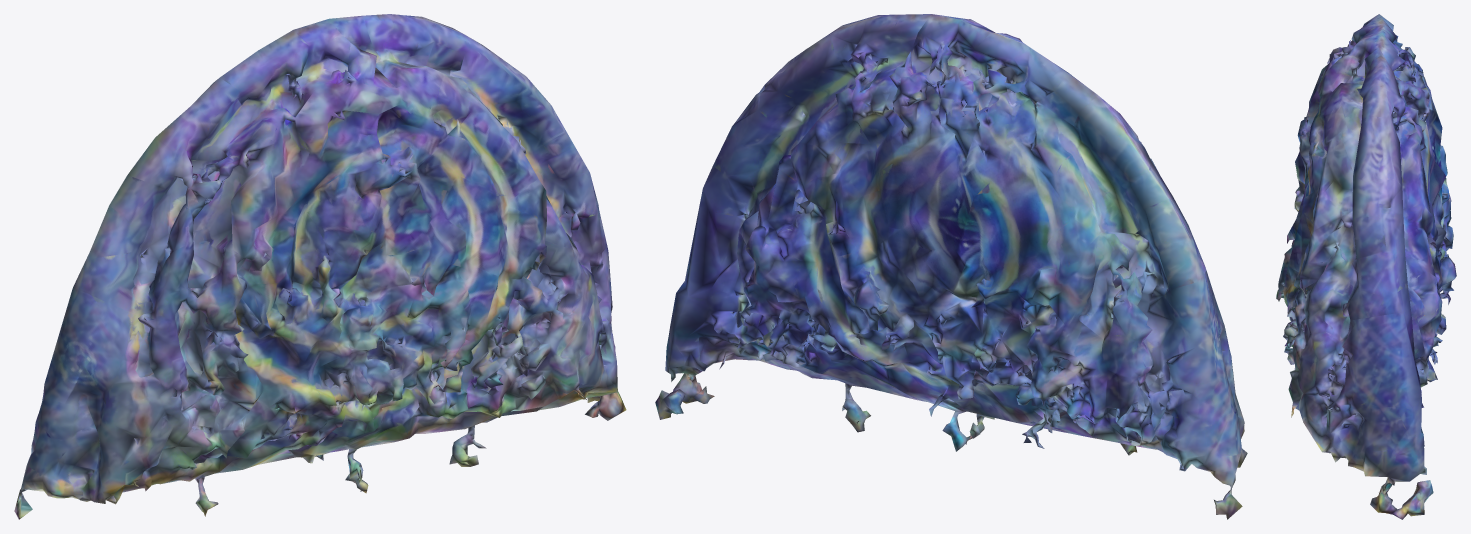
Rendered from Wizard_s_invisibility_1027134150_refine.fbx.
3 views of the same model, side by side, from view 1: azimuth 30°, elevation 25°; view 2: azimuth 150°, elevation 25°; view 3: azimuth 270°, elevation 25° (orthographic). The views are drawn at different scales.
Visible parts, largest first — view 1: Mesh_0; view 2: Mesh_0; view 3: Mesh_0.
Boxes of the visible parts, x1=… form: Mesh_0: x1=14, y1=14, x2=626, y2=519; Mesh_0: x1=655, y1=14, x2=1247, y2=519; Mesh_0: x1=1276, y1=14, x2=1456, y2=519.
Size of the model in its own units: 119 by 88.76 by 39.06.
Materials: 1 (1 with a texture image).
